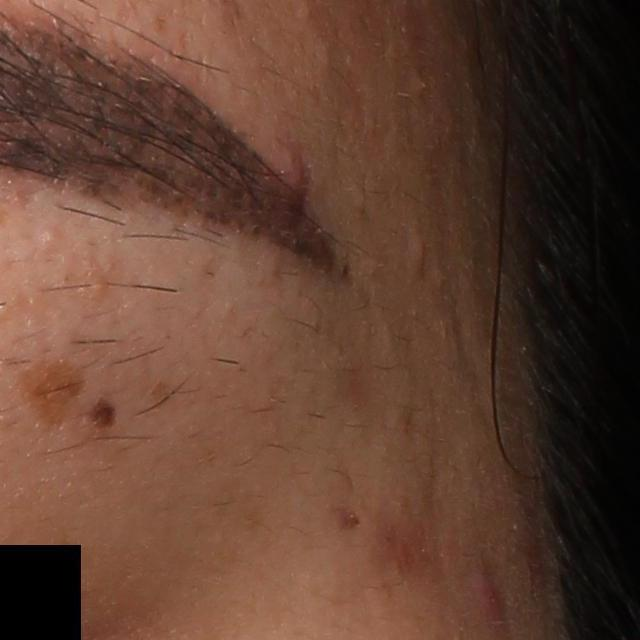comedo: (37, 226, 63, 252)
melasma: (329, 501, 367, 536)
nevus: (83, 396, 131, 440)
